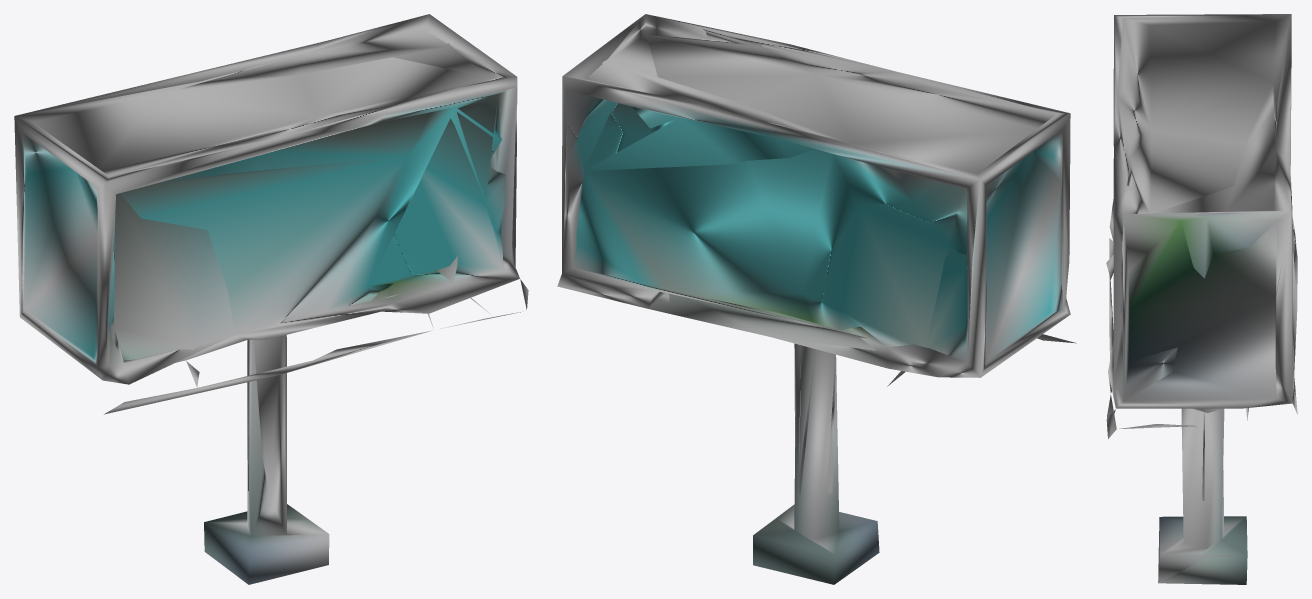
File: gen3d-billboard-sign-lod1.glb
3 renders of one model, left to right at view 1: azimuth 30°, elevation 25°; view 2: azimuth 150°, elevation 25°; view 3: azimuth 270°, elevation 25°, orthographic. The views are drawn at different scales.
Parts seen in each view (by area): view 1: part_0; view 2: part_0; view 3: part_0.
Boxes of the visible parts, left/top/right/bottom form: part_0: left=14, top=14, right=528, bottom=584; part_0: left=557, top=14, right=1076, bottom=584; part_0: left=1106, top=14, right=1297, bottom=584.
Bounding box in the file's own units: 0.9577 × 0.9967 × 0.3815.
